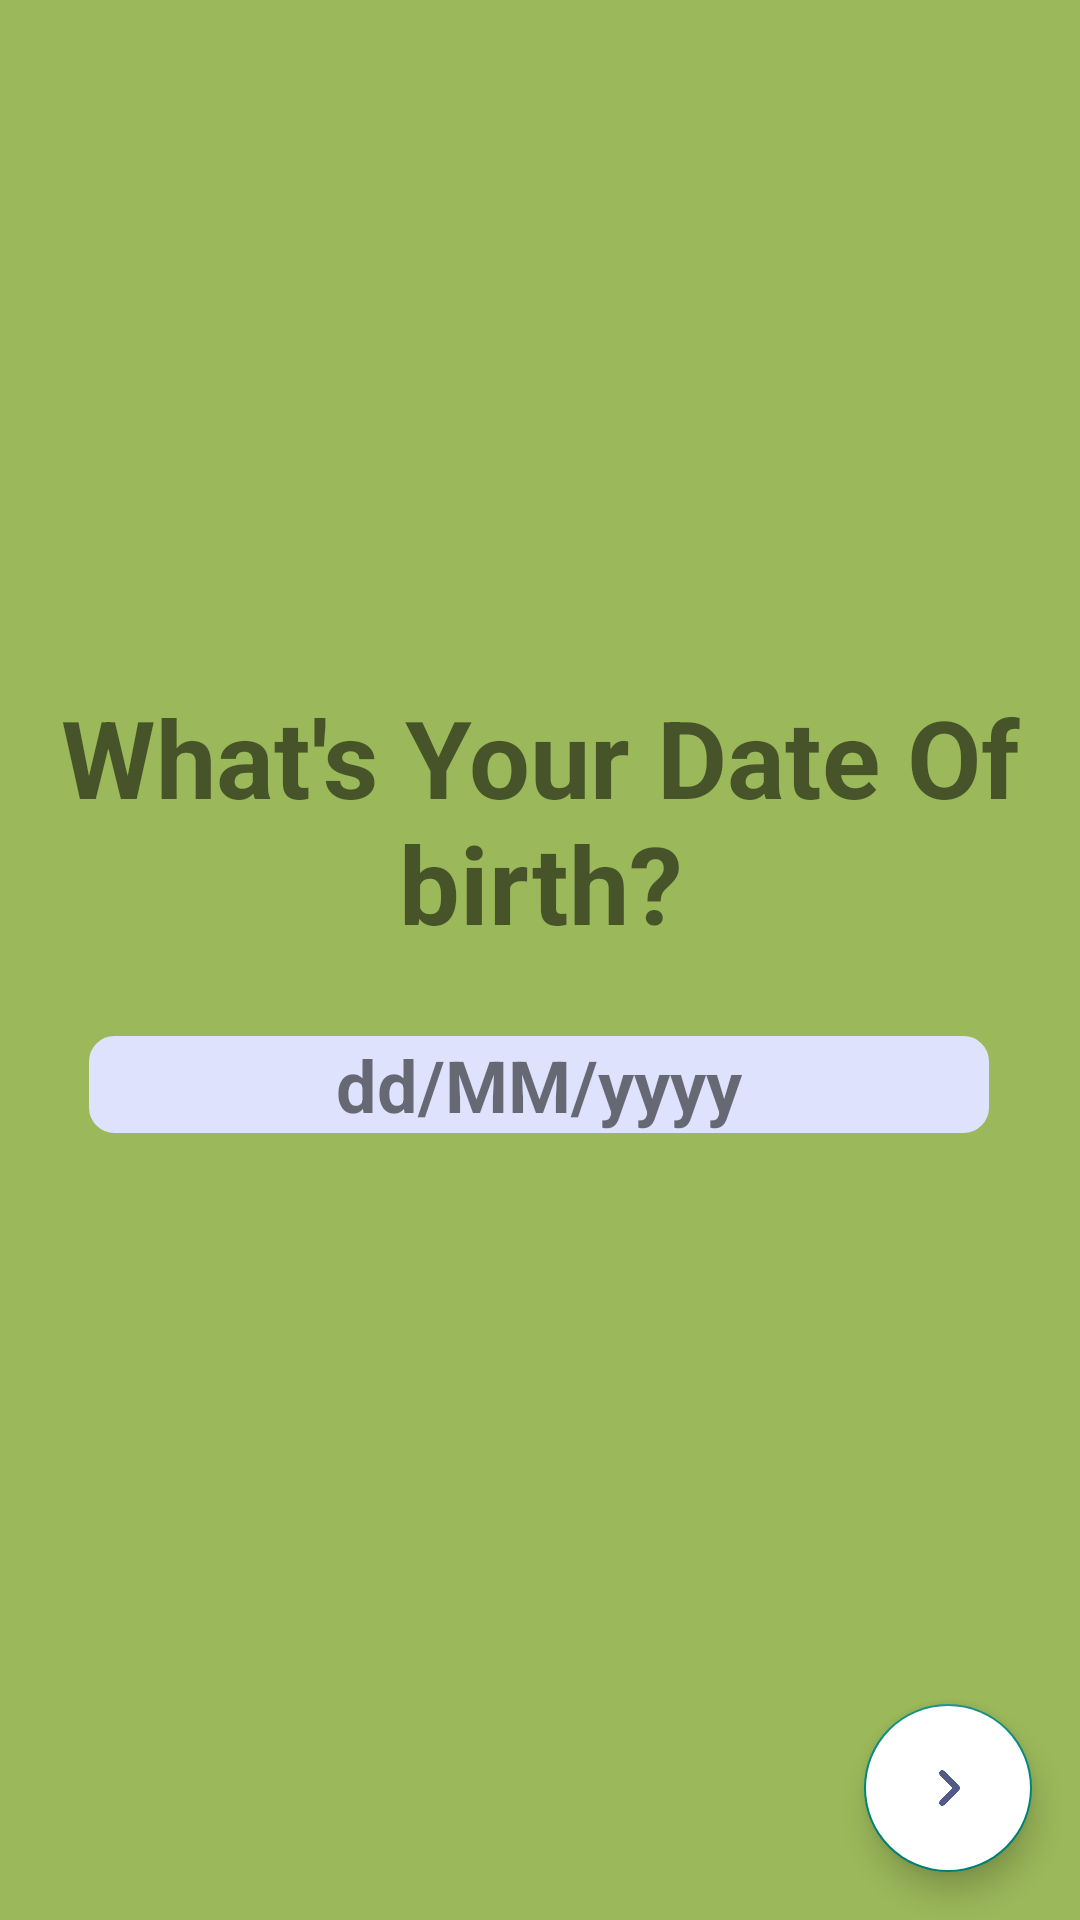

Where icons sit on this 1080 x 1920 app screen, as (x1, y1, x2, y2):
next: (864, 1704, 1032, 1872)
